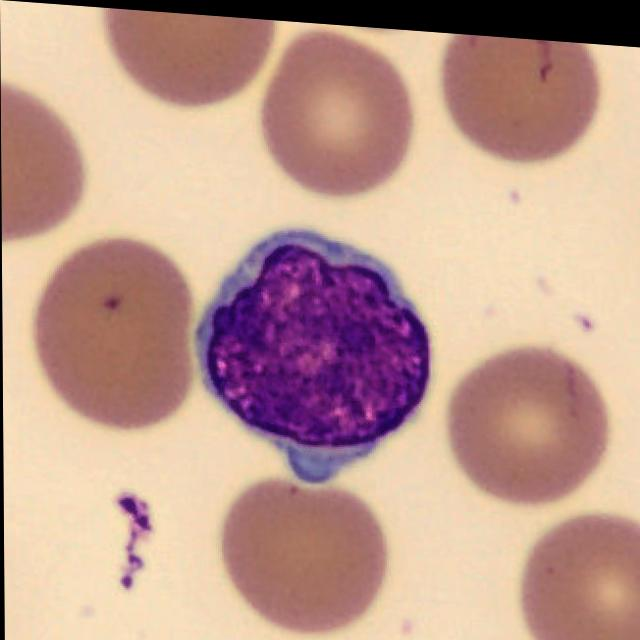Linfocito: (196, 227, 430, 481)
